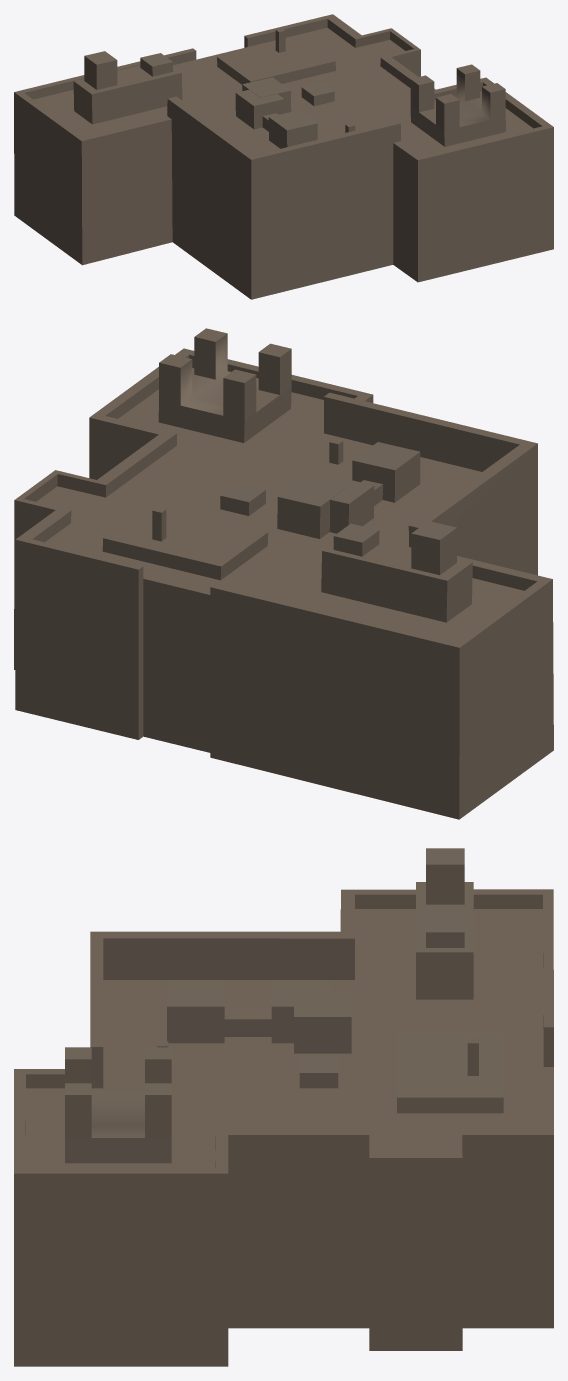
3 views of the same model, one above another, from view 1: azimuth 30°, elevation 25°; view 2: azimuth 150°, elevation 25°; view 3: azimuth 270°, elevation 25° (orthographic). The views are drawn at different scales.
Parts seen in each view (by area): view 1: B5_pCube9; view 2: B5_pCube9; view 3: B5_pCube9.
Boxes of the visible parts, x1,y1,x2,y2 form: B5_pCube9: (14, 14, 553, 299); B5_pCube9: (14, 328, 553, 819); B5_pCube9: (14, 848, 553, 1366).
Size of the model in its own units: 49.47 by 21.78 by 39.7.
